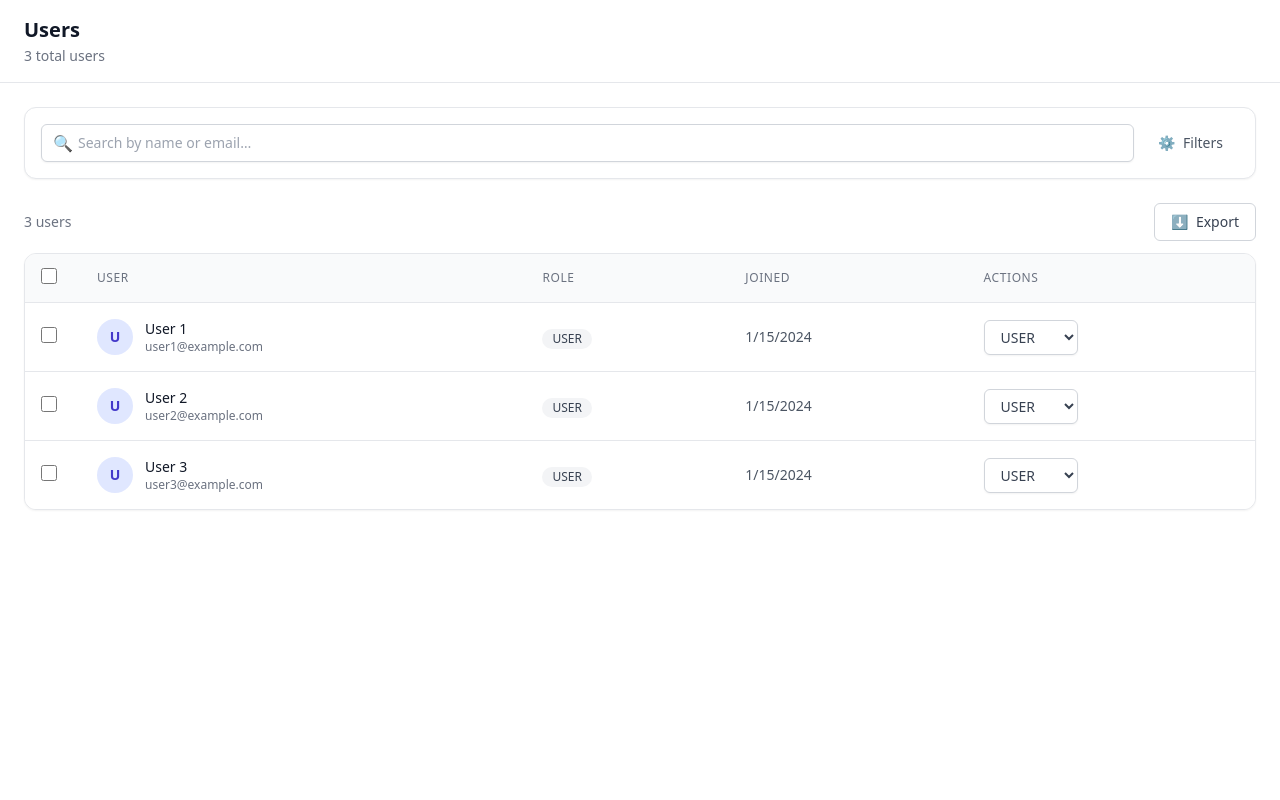
Scenario: AdminUsersPage › selects all users when select-all checkbox is clicked
The width and height of the screenshot is (1280, 800).
Expected: the table is shown, [25,254,1255,509]
Click the checkbox in the row of "Role" at [49, 276], box [41,268,57,284]
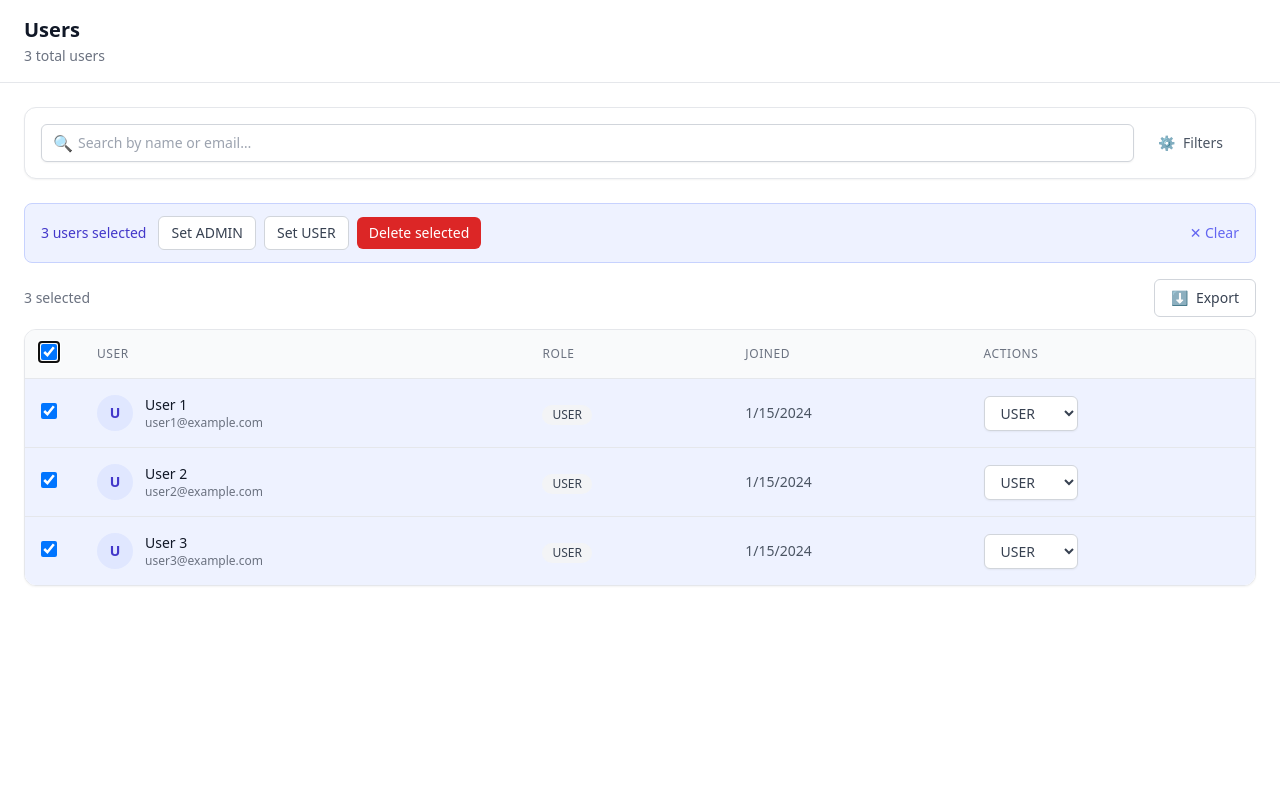
Expected: the text "3 users selected" is shown, [41,223,146,243]
